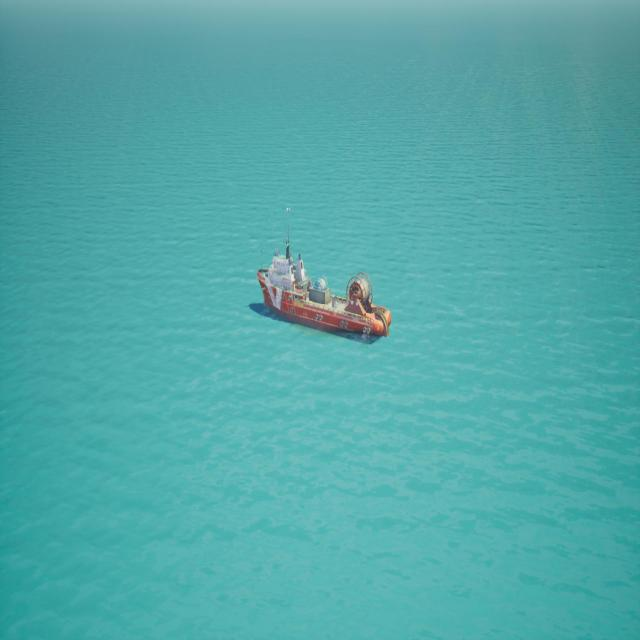tug boat: (253, 205, 390, 347)
